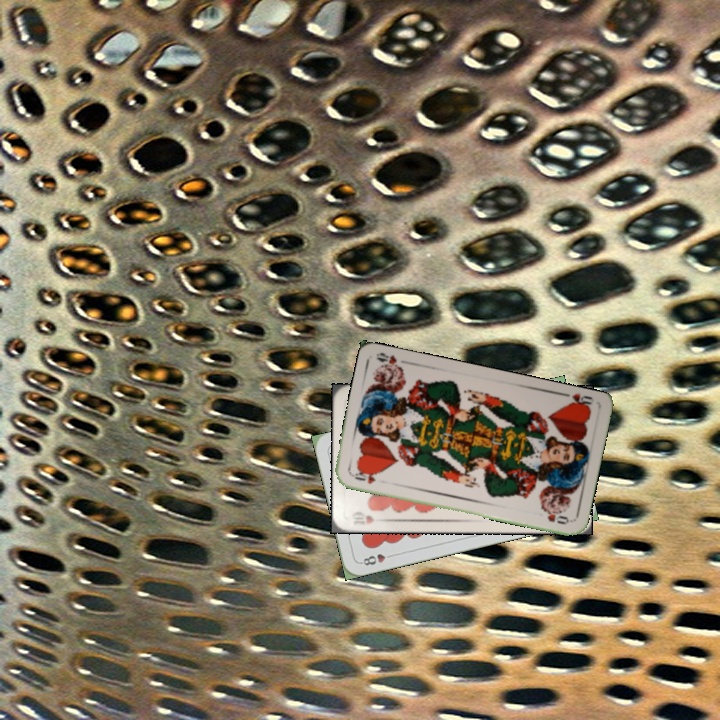H10: (349, 511, 376, 527)
H8: (356, 550, 397, 568)
HO: (557, 388, 596, 413), (347, 466, 379, 486)
